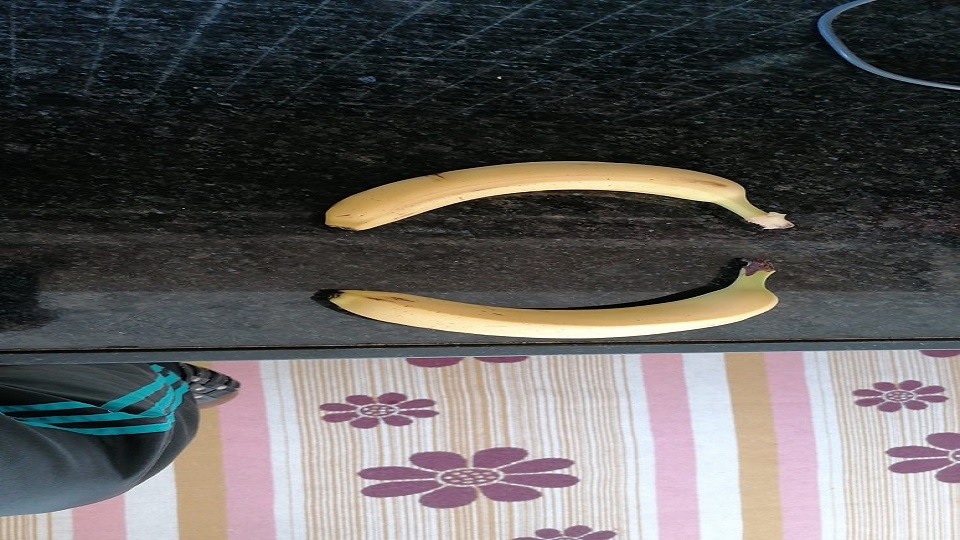muz: (329, 262, 781, 341), (324, 159, 796, 232)
